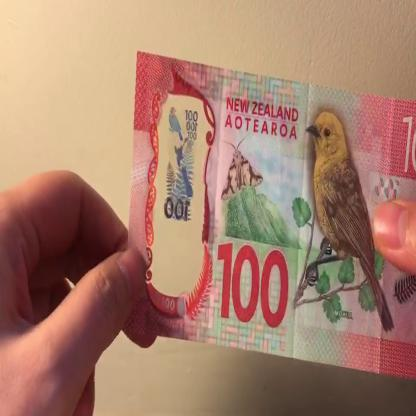100B: (161, 102, 202, 276)
